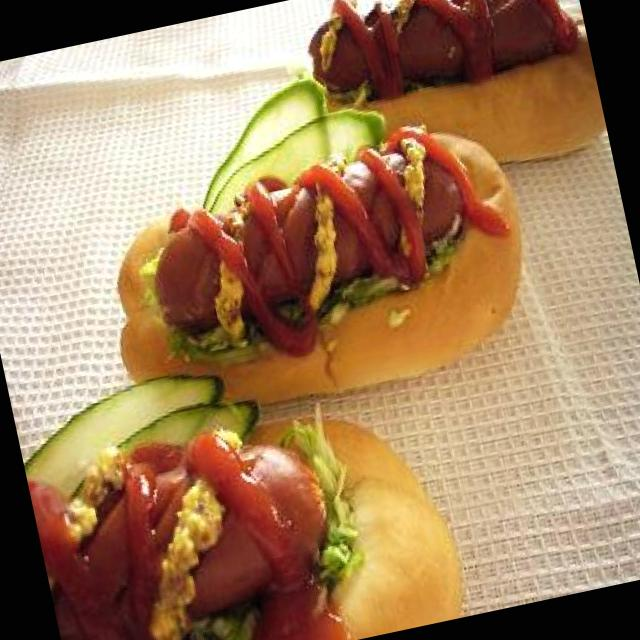Hot Dog: (69, 94, 554, 447)
